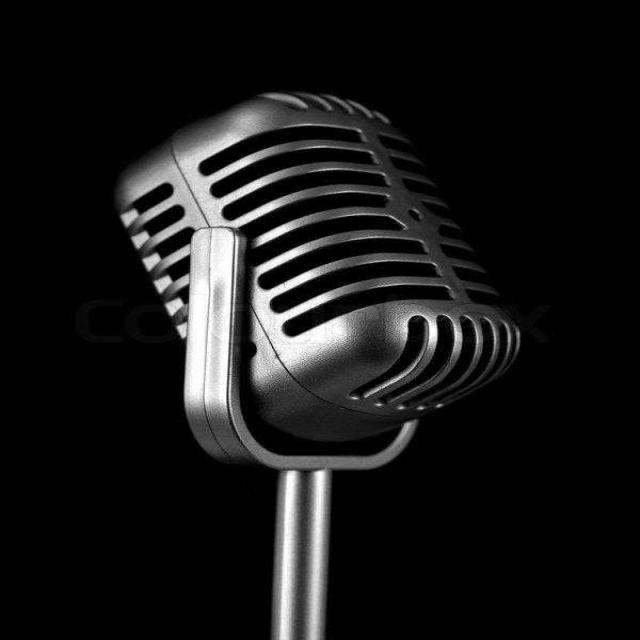microphone: (104, 89, 516, 630)
